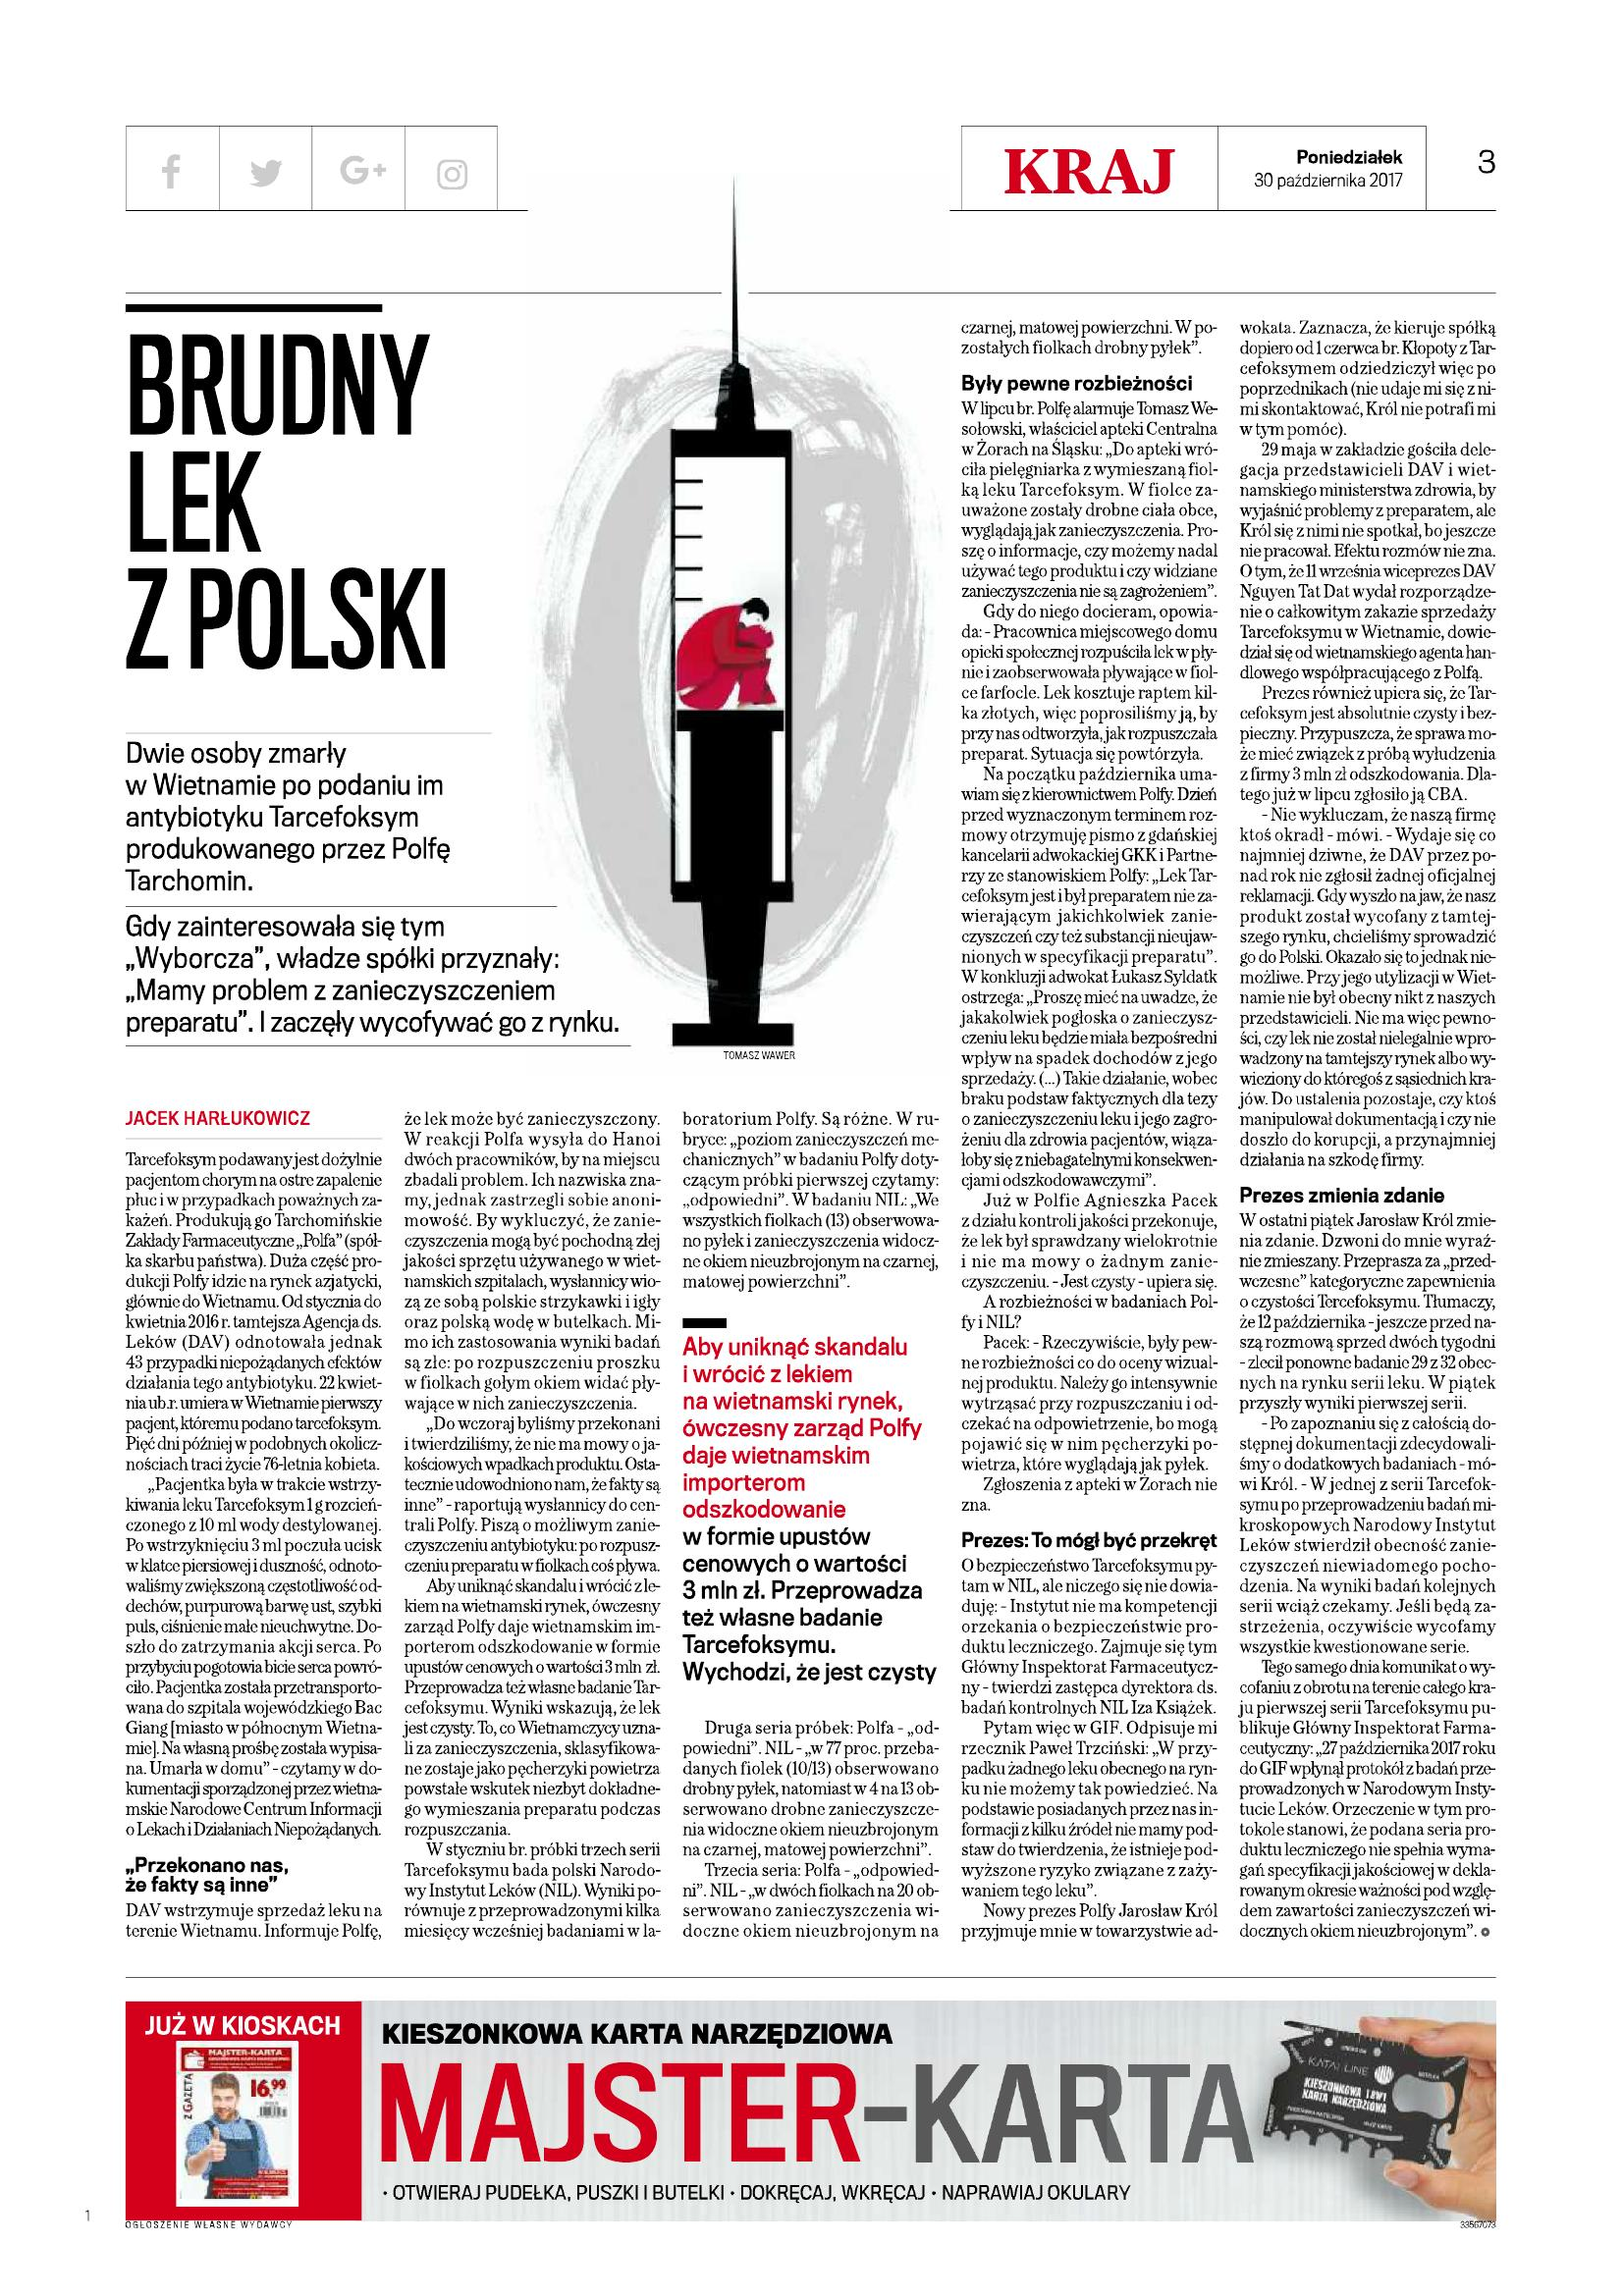article: (119, 297, 1505, 1961)
